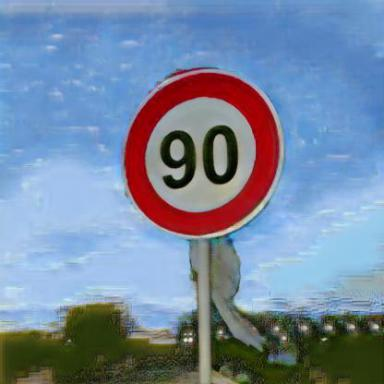Speed_limit_90: (125, 73, 281, 232)
